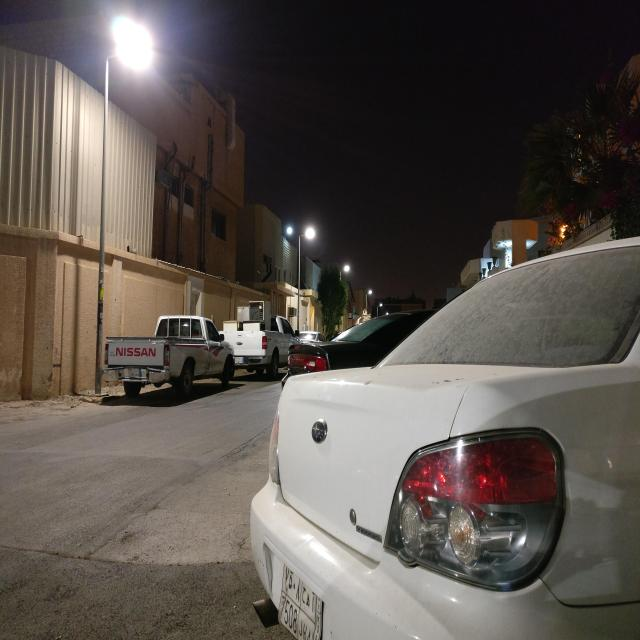license_plate: (277, 563, 324, 639), (128, 368, 140, 377), (235, 357, 243, 363)
